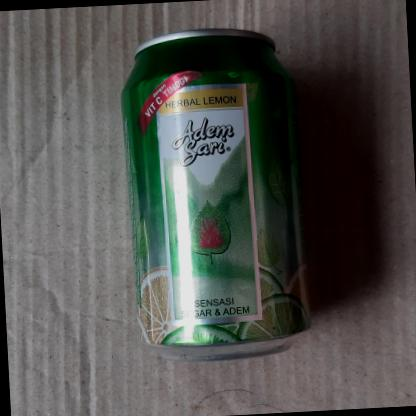alumunium_can: (66, 0, 344, 387)
